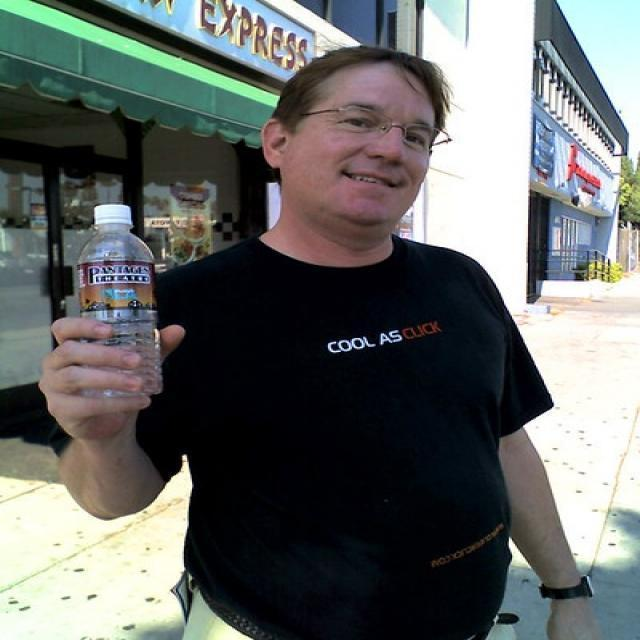plastic_bottle: (76, 205, 162, 399)
